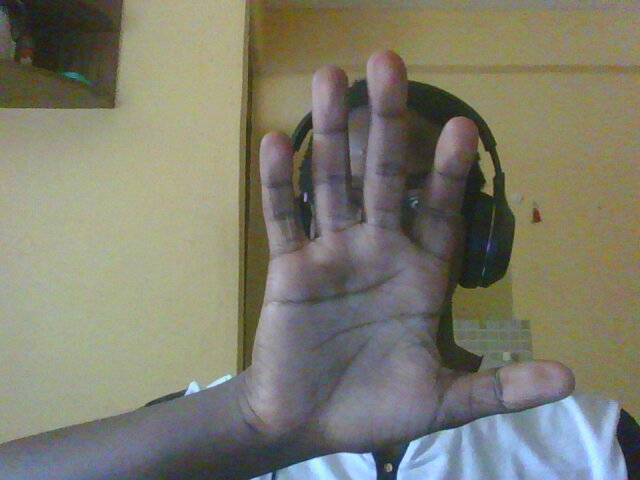Hello: (258, 53, 578, 450)
